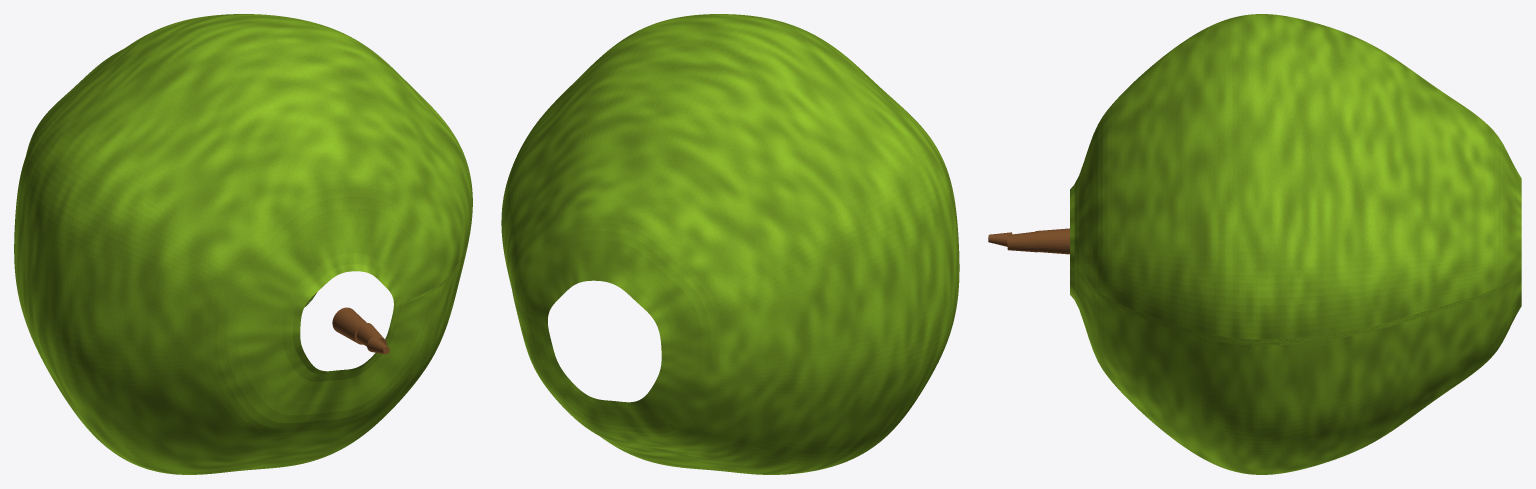
Rendered from apple.glb.
3 renders of one model, left to right at view 1: azimuth 30°, elevation 25°; view 2: azimuth 150°, elevation 25°; view 3: azimuth 270°, elevation 25°, orthographic. The views are drawn at different scales.
Parts seen in each view (by area): view 1: Apple_3D, Stem; view 2: Apple_3D; view 3: Apple_3D, Stem.
Boxes of the visible parts, x1=… form: Apple_3D: x1=14, y1=14, x2=472, y2=474; Stem: x1=332, y1=307, x2=389, y2=354; Apple_3D: x1=501, y1=14, x2=959, y2=474; Apple_3D: x1=1070, y1=14, x2=1521, y2=474; Stem: x1=988, y1=228, x2=1069, y2=254.
Bounding box in the file's own units: 3.64 × 3.63 × 4.2.
3 materials, 1 textured.
